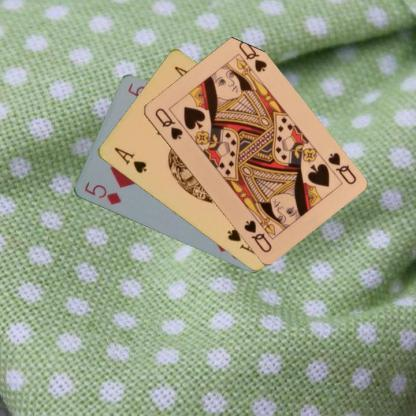5d: (81, 179, 124, 206)
As: (111, 145, 148, 174)
Qs: (325, 150, 359, 186), (152, 105, 184, 142)
